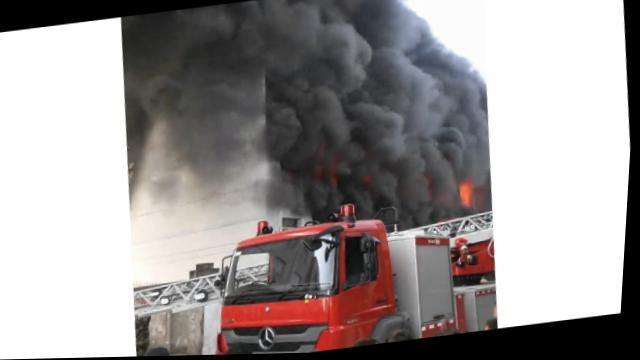fire: (460, 185, 478, 208)
